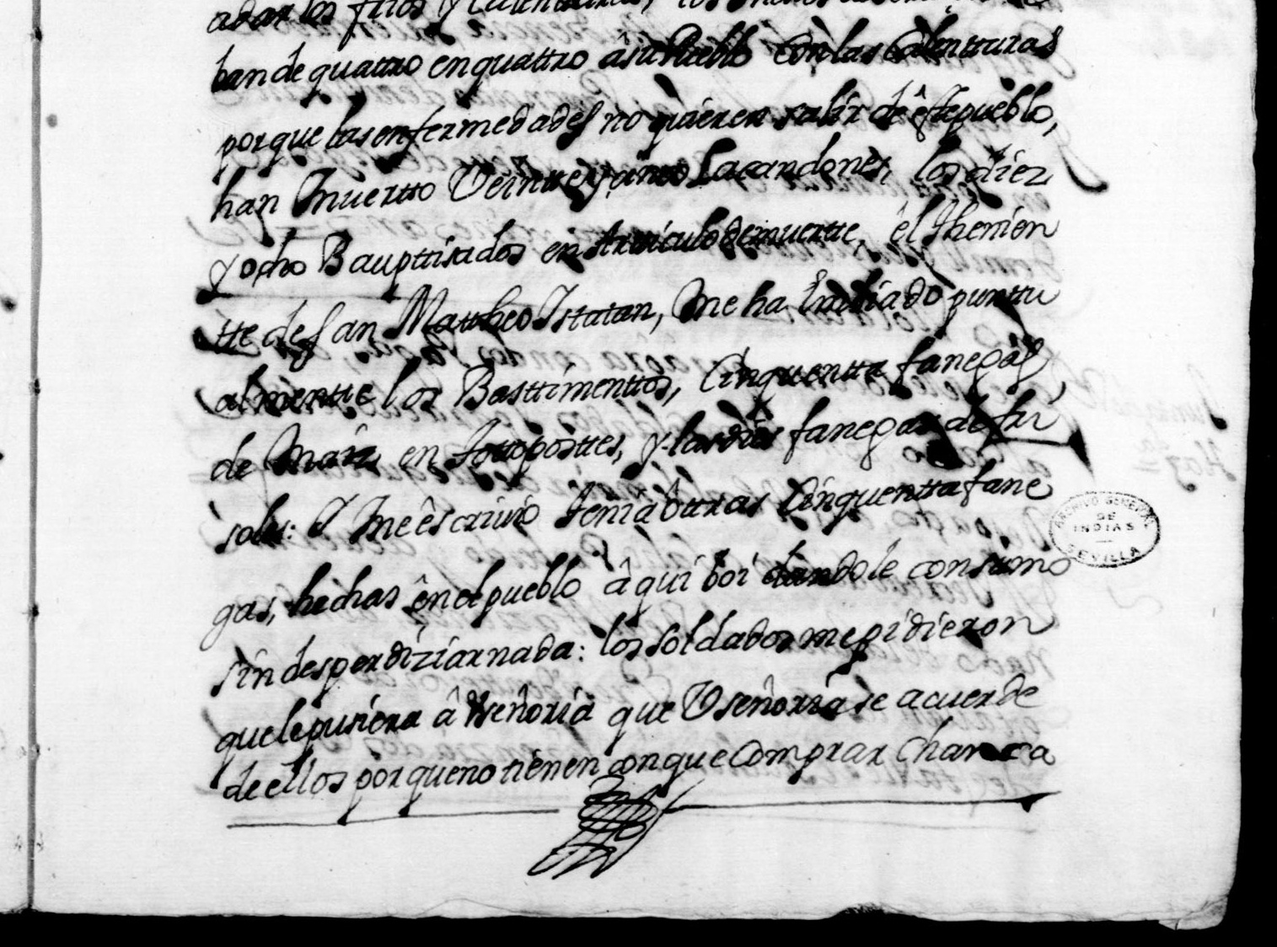lacandon: (685, 131, 891, 189)
